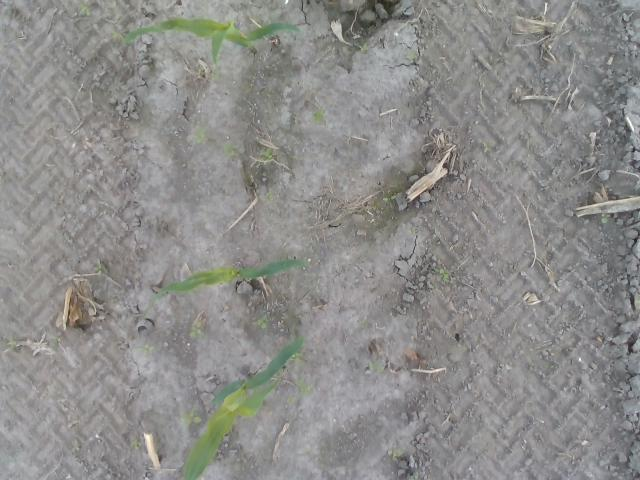Maize: (180, 338, 306, 480), (122, 17, 304, 81), (139, 256, 310, 317)
Weeds: (178, 408, 200, 430), (0, 334, 16, 353), (134, 344, 156, 356), (434, 268, 448, 286), (258, 148, 276, 162), (194, 128, 207, 146), (370, 358, 386, 372), (253, 315, 269, 329), (312, 108, 325, 125), (190, 322, 203, 338), (77, 2, 91, 15), (112, 32, 124, 47), (388, 449, 404, 460), (264, 190, 276, 204), (223, 142, 233, 158), (95, 262, 107, 275), (483, 142, 496, 153), (50, 334, 60, 348), (70, 440, 80, 453), (382, 195, 398, 203), (130, 440, 142, 449), (602, 214, 612, 224), (406, 50, 416, 60), (514, 54, 522, 66), (360, 44, 370, 52), (408, 473, 419, 480), (410, 226, 418, 235)
